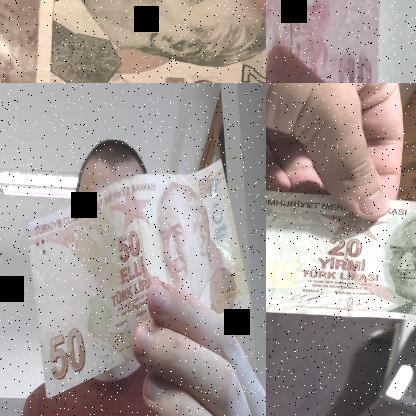5 TL: (33, 0, 265, 82)
